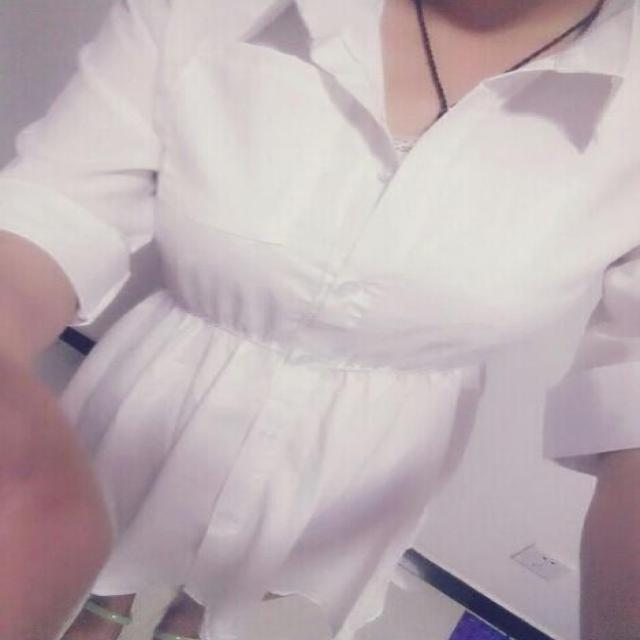short-sleeve-dress: (33, 2, 623, 576)
